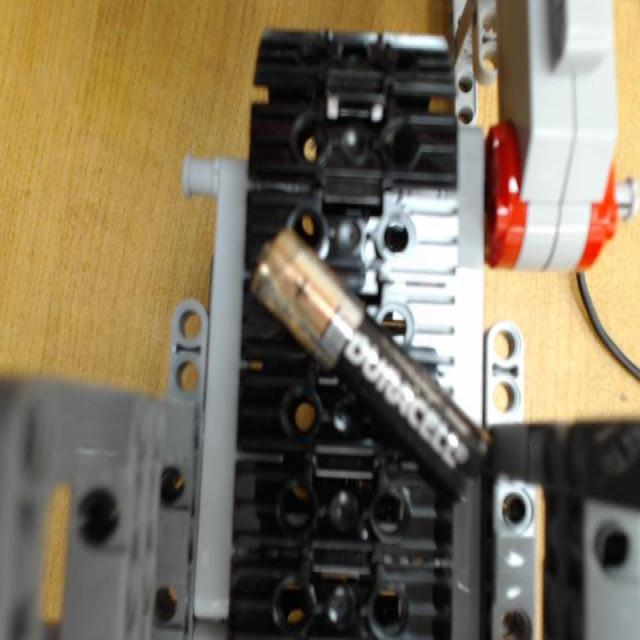AAA: (249, 222, 490, 489)
